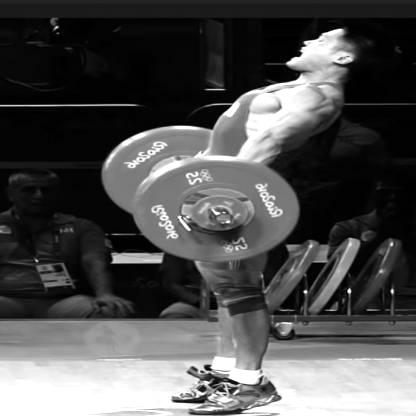Barbell: (212, 211, 234, 228)
